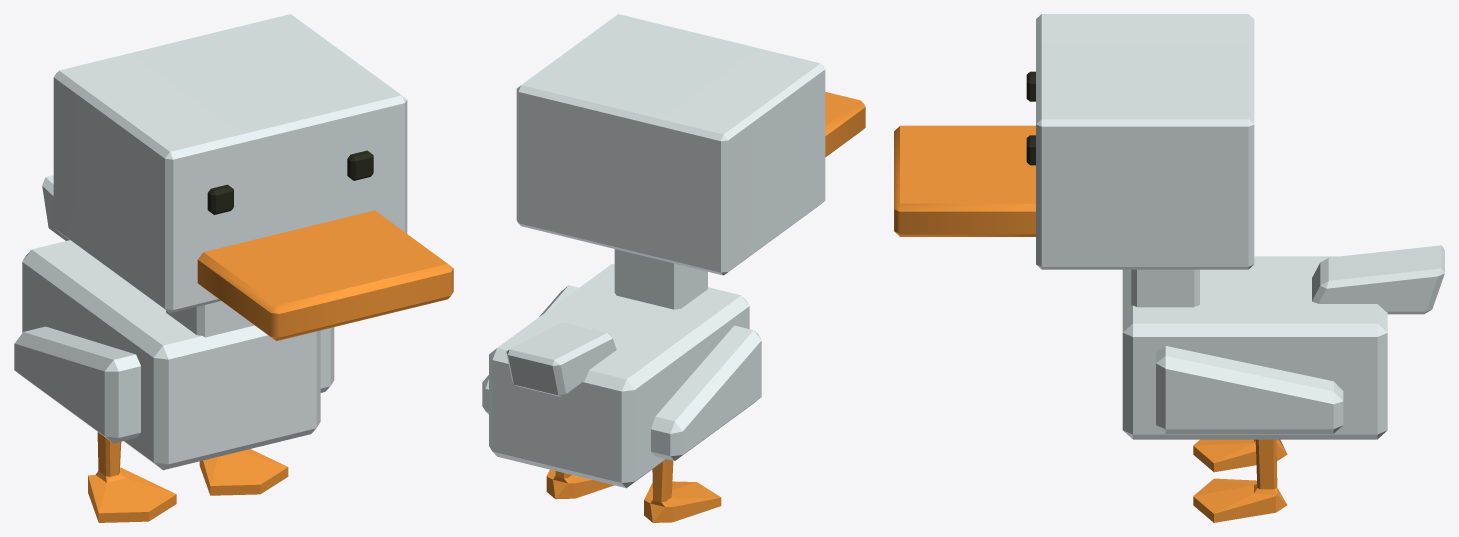
Rendered from Duck_1.fbx.
3 views of the same model, side by side, from view 1: azimuth 30°, elevation 25°; view 2: azimuth 150°, elevation 25°; view 3: azimuth 270°, elevation 25° (orthographic). The views are drawn at different scales.
Parts seen in each view (by area): view 1: Duck_1; view 2: Duck_1; view 3: Duck_1.
Boxes of the visible parts, x1=… form: Duck_1: x1=14, y1=14, x2=453, y2=522; Duck_1: x1=482, y1=14, x2=865, y2=522; Duck_1: x1=894, y1=14, x2=1444, y2=522.
Size of the model in its own units: 39.69 by 69.51 by 83.97.
